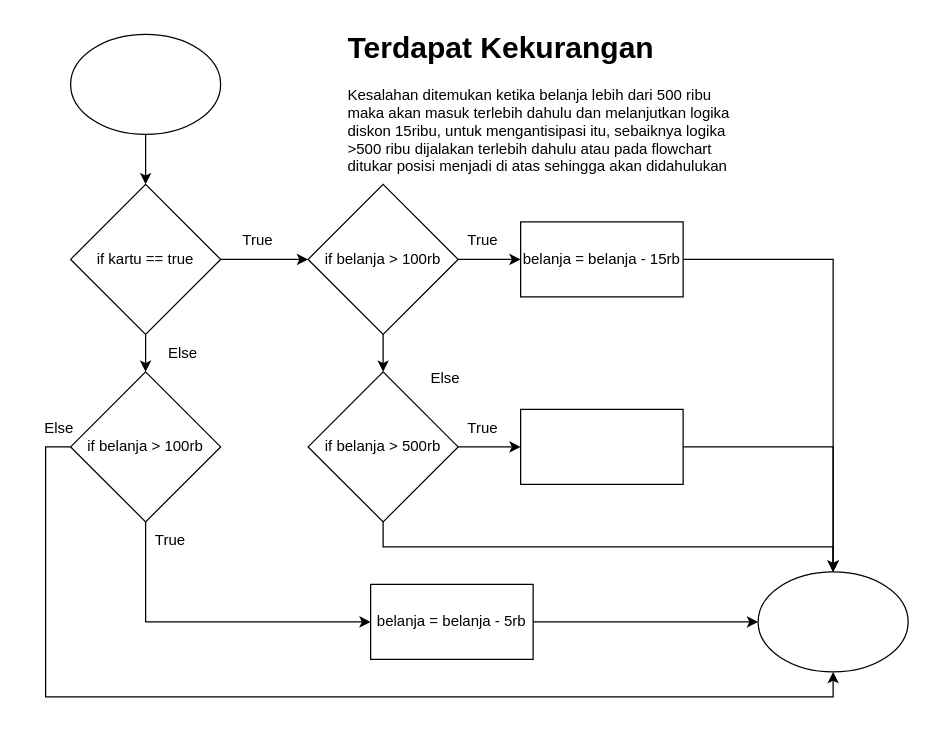
Some shapes in this 930 by 729 pixel diagram are drawn without their labels. The shapes that lost their labels are listed below. From the top down, each one's centre as x and y in pixels, then its label:
At point (145, 83): "Start".
At point (601, 446): "belanja = belanja - 50rb".
At point (832, 621): "End".
